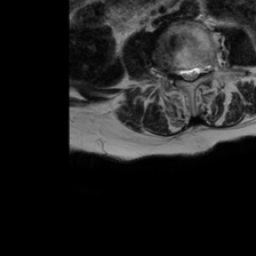CCS_severe_stenosis: (186, 60, 193, 88)
LFS_normal: (201, 55, 209, 81)
LLS_normal: (193, 57, 201, 84)
RFS_stenosis: (172, 59, 178, 84)
RLS_normal: (178, 61, 186, 85)
